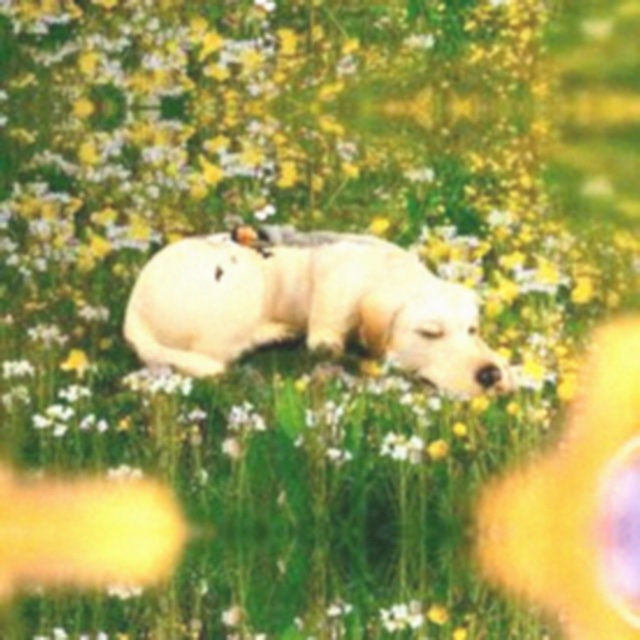dog: (368, 264, 520, 412)
